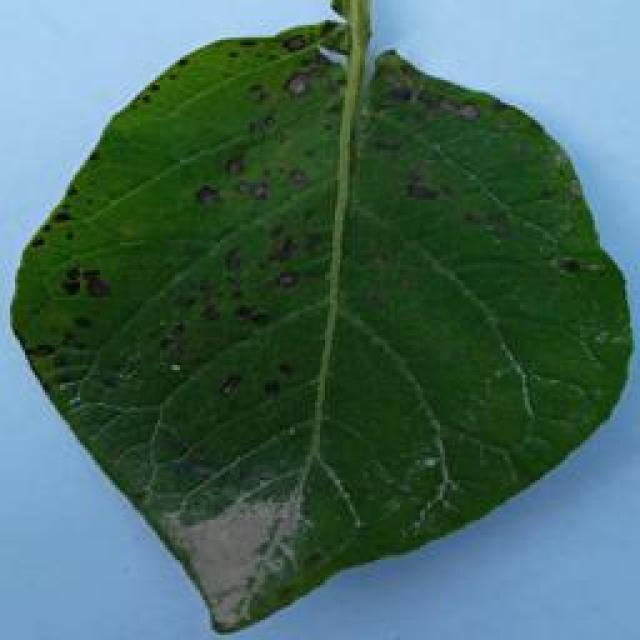Potato_Early_Blight: (5, 9, 636, 635)
